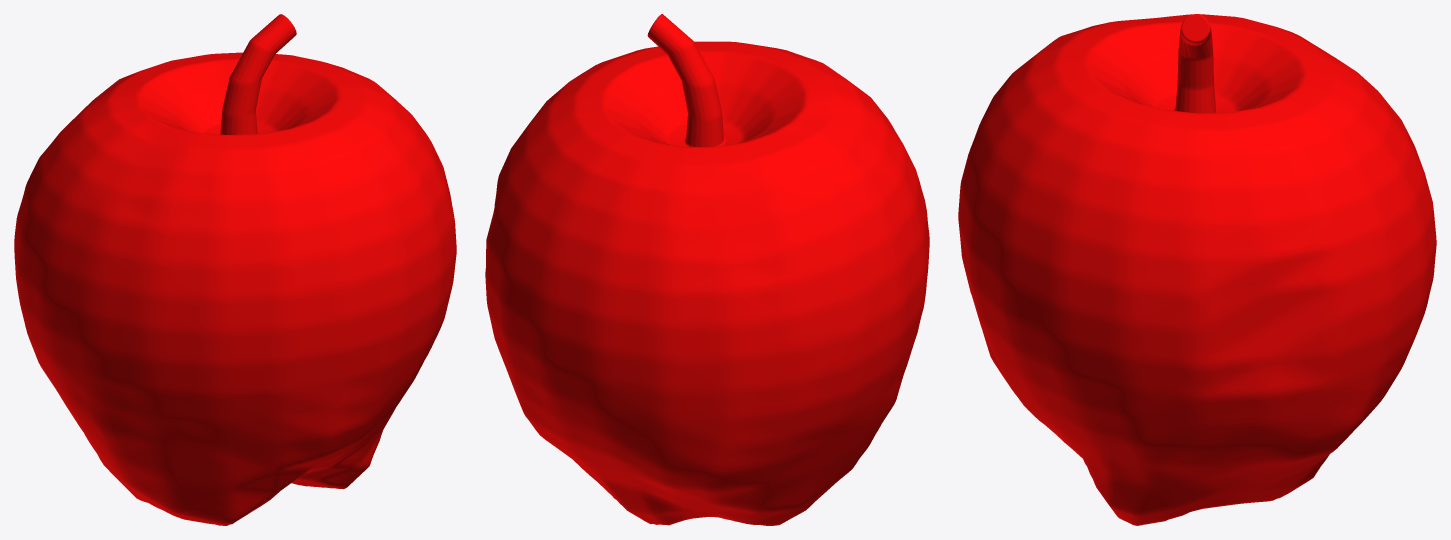
Rendered from SM_Apple.fbx.
The picture shows the model from 3 angles, left to right: view 1: azimuth 30°, elevation 25°; view 2: azimuth 150°, elevation 25°; view 3: azimuth 270°, elevation 25°; orthographic projection. The views are drawn at different scales.
Parts seen in each view (by area): view 1: Apple; view 2: Apple; view 3: Apple.
Boxes of the visible parts, bbox=[...] form: Apple: bbox=[14, 14, 456, 525]; Apple: bbox=[485, 14, 929, 525]; Apple: bbox=[958, 14, 1436, 525].
Bounding box in the file's own units: 56.07 × 64.72 × 56.42.
